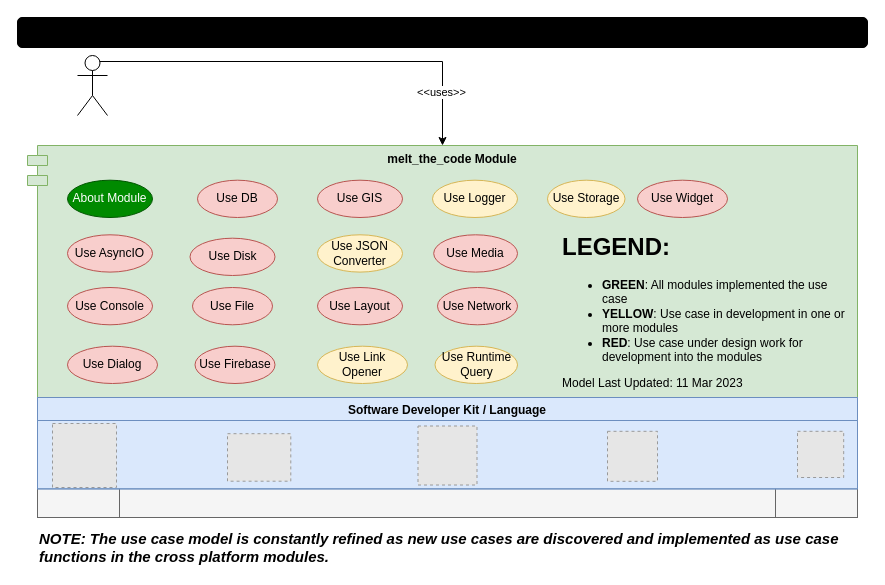
This 885x585 diagram has some shape labels left out. Grey dashed boxes stand in for pictures. Here are the shapes that lost their labels. From the top down, the centre of each, then its label:
At point 442,32: "Use Case Model".
At point 92,85: "Software Application".
At point 447,502: "Operating System".
